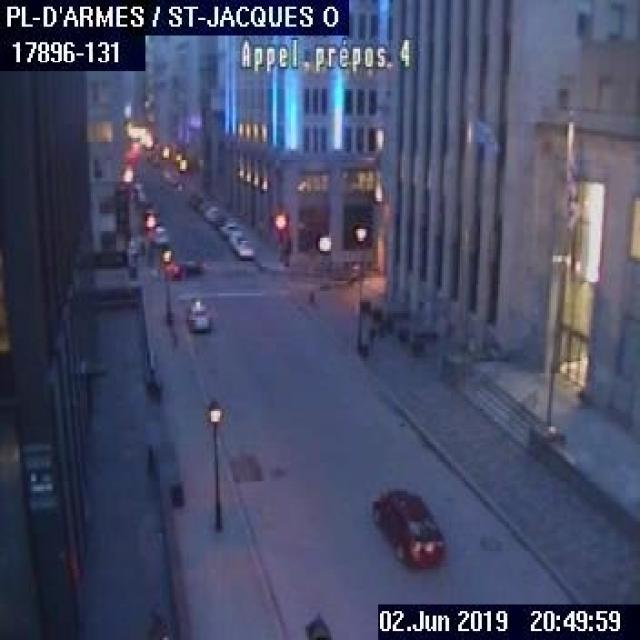vehicle: (369, 484, 444, 569), (184, 299, 209, 332), (173, 257, 202, 277), (216, 216, 241, 236), (147, 224, 168, 244), (235, 236, 254, 258), (227, 229, 245, 250), (202, 203, 220, 220), (210, 212, 228, 228), (193, 194, 206, 209)
